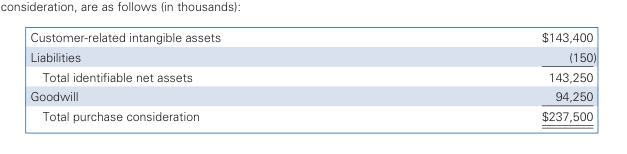table: (29, 29, 595, 123)
table column: (29, 29, 380, 123), (380, 29, 595, 123)
table row: (29, 46, 595, 66), (29, 66, 595, 86), (29, 86, 595, 105), (29, 105, 595, 123), (29, 29, 595, 46)
